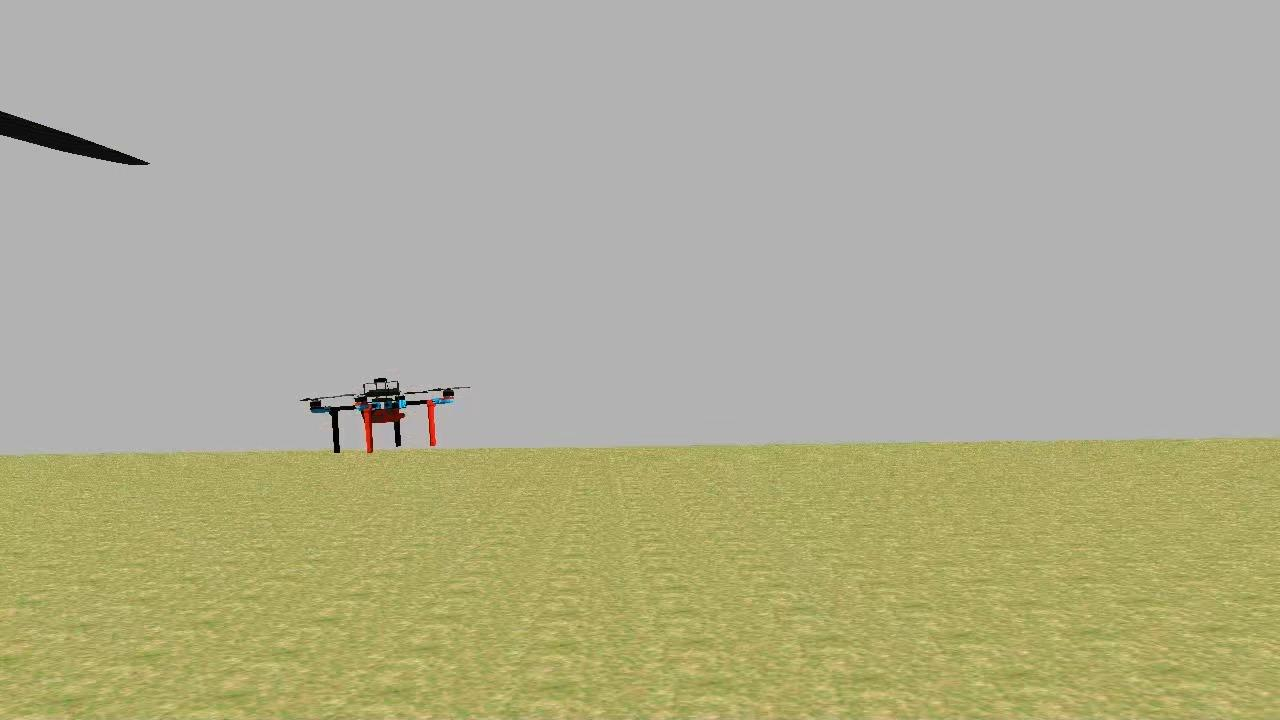UAV: (279, 350, 484, 467)
